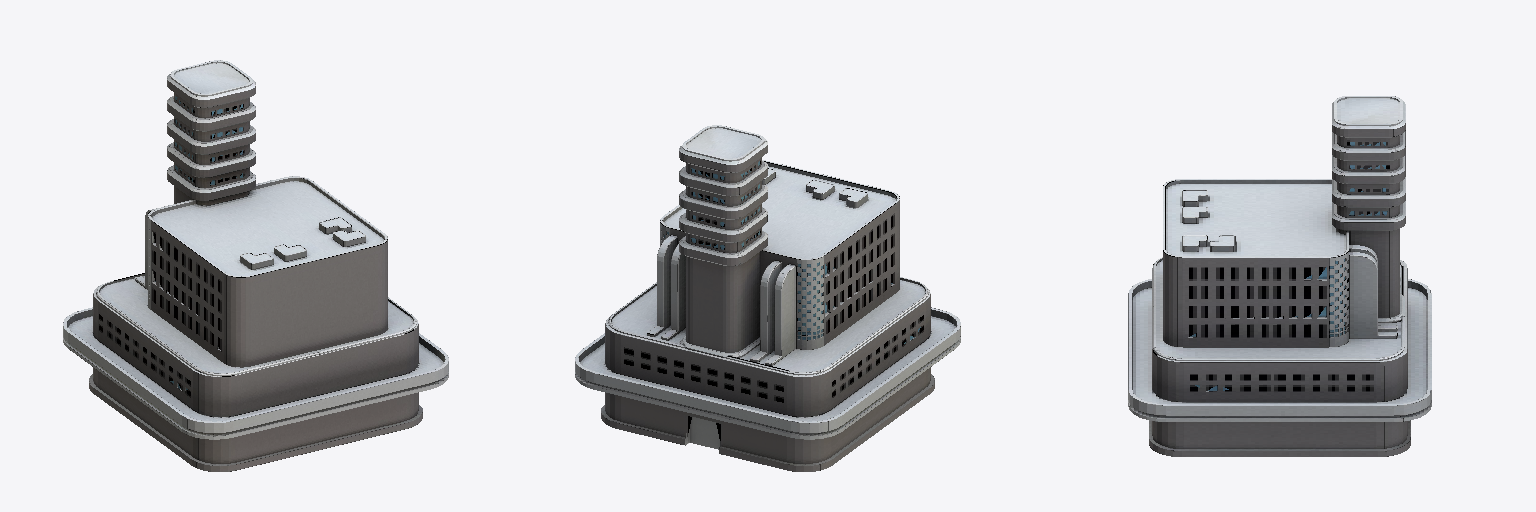
3 views of the same model, side by side, from view 1: azimuth 30°, elevation 25°; view 2: azimuth 150°, elevation 25°; view 3: azimuth 270°, elevation 25° (orthographic).
Visible parts, largest first — view 1: blok_4.002_Plane.003; view 2: blok_4.002_Plane.003; view 3: blok_4.002_Plane.003.
Part boxes in pixels (x1,y1,x2,y2): blok_4.002_Plane.003: (63,60,448,471); blok_4.002_Plane.003: (575,125,960,471); blok_4.002_Plane.003: (1128,96,1431,456).
Bounding box in the file's own units: 24.38 × 25.87 × 24.38.
Materials: 3 (1 with a texture image).